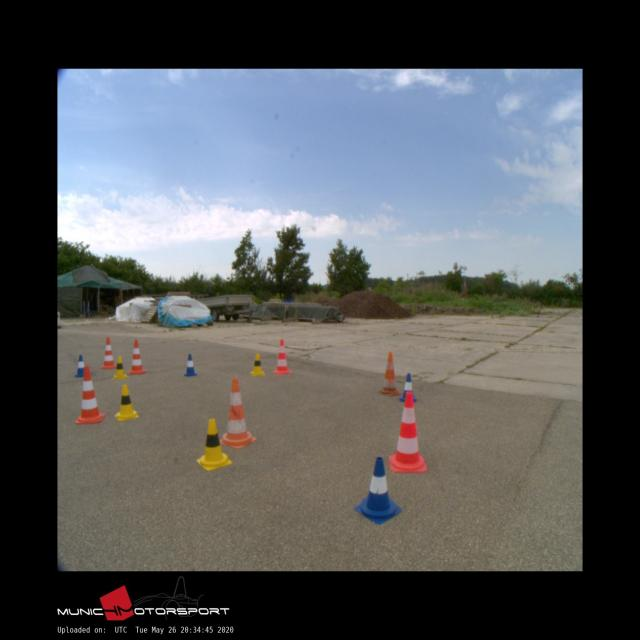blue_cone: (355, 456, 401, 520), (399, 372, 416, 401), (74, 354, 88, 376), (184, 353, 197, 375)
large_orange_cone: (389, 392, 427, 471), (220, 379, 256, 447), (75, 366, 105, 422), (378, 352, 400, 394), (128, 340, 146, 373), (274, 339, 291, 373), (101, 336, 116, 368)
yellow_cone: (197, 418, 231, 470), (115, 384, 138, 420), (112, 355, 128, 379), (250, 353, 264, 375)
